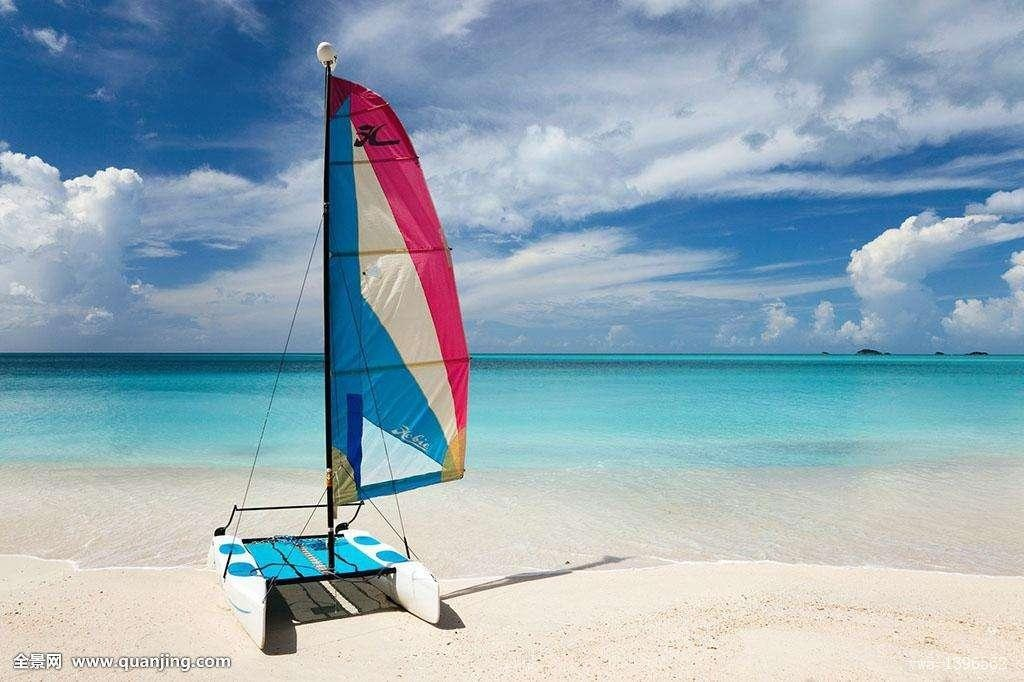fanchuan: (208, 42, 499, 649)
